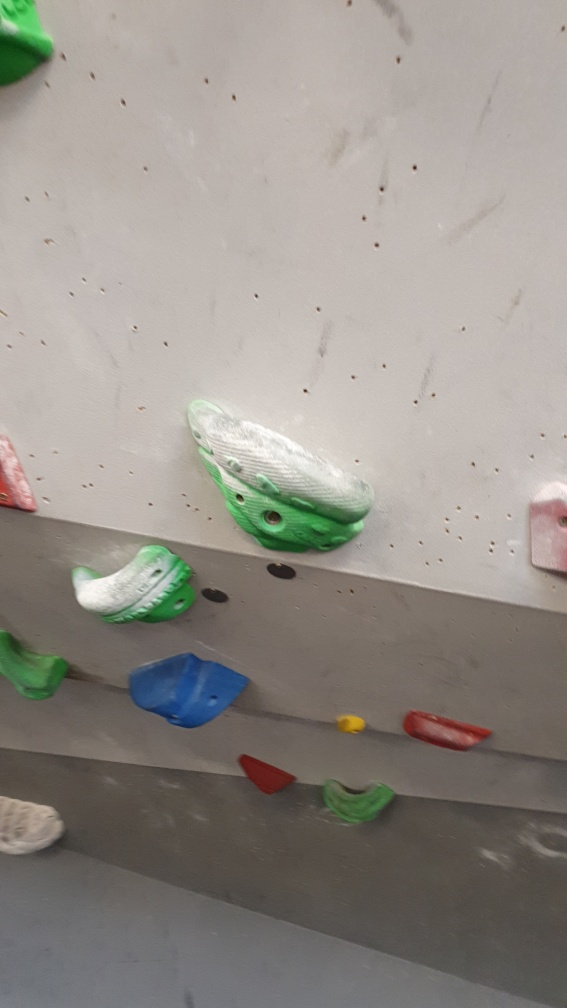Crimp: (401, 705, 495, 757)
Hand Start: (260, 554, 301, 588), (198, 575, 233, 610)
Jug: (179, 394, 375, 557), (67, 542, 197, 632), (312, 761, 402, 831), (1, 627, 74, 704)
Pinch: (125, 647, 255, 734)
